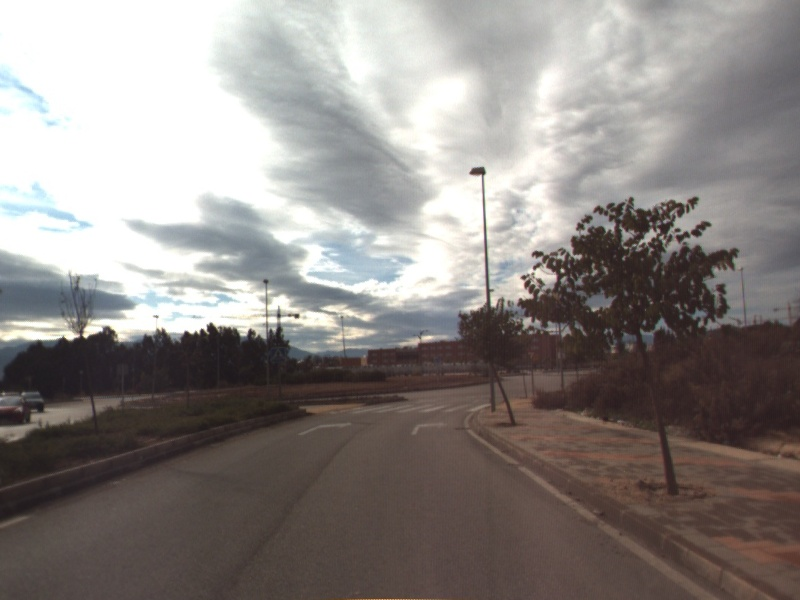RIGHT: (296, 420, 354, 437), (409, 419, 450, 437)
